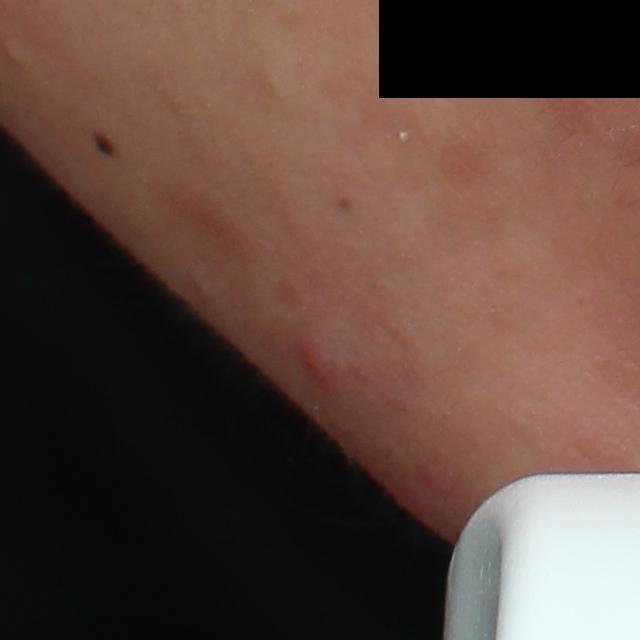comedo: (253, 71, 289, 100)
nevus: (87, 128, 120, 159)
papule: (294, 334, 346, 400)
